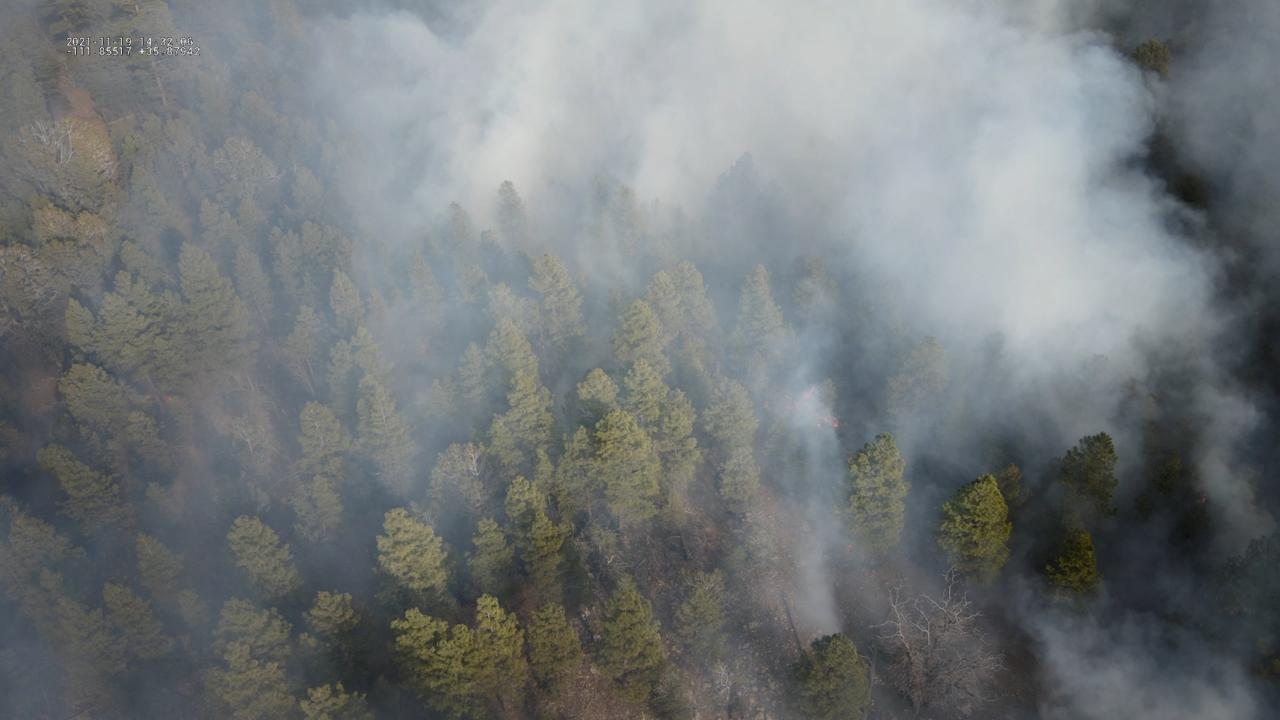fire: (815, 414, 840, 430)
smoke: (0, 0, 1280, 720)
